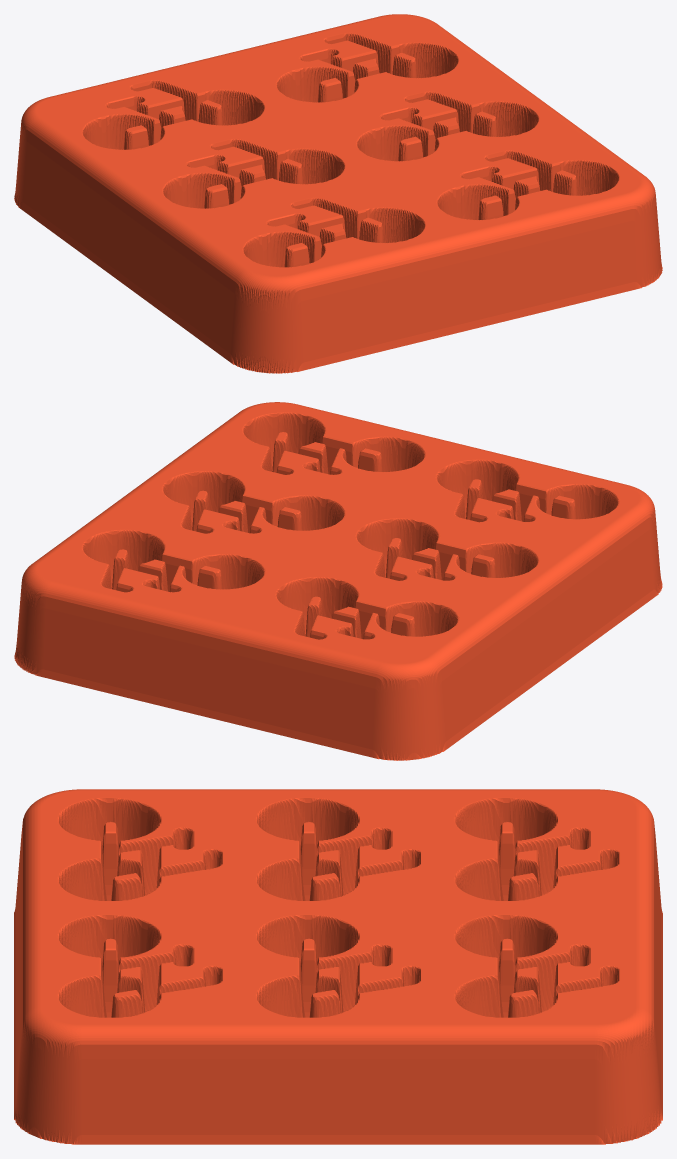
The model's file is mold.glb.
3 renders of one model, top to bottom at view 1: azimuth 30°, elevation 25°; view 2: azimuth 150°, elevation 25°; view 3: azimuth 270°, elevation 25°, orthographic. The views are drawn at different scales.
Visible parts, largest first — view 1: geometry_0; view 2: geometry_0; view 3: geometry_0.
Boxes of the visible parts, bbox=[...] form: geometry_0: bbox=[14, 14, 662, 373]; geometry_0: bbox=[14, 402, 662, 760]; geometry_0: bbox=[14, 789, 662, 1144].
Bounding box in the file's own units: 0.0808 × 0.0159 × 0.0864.
